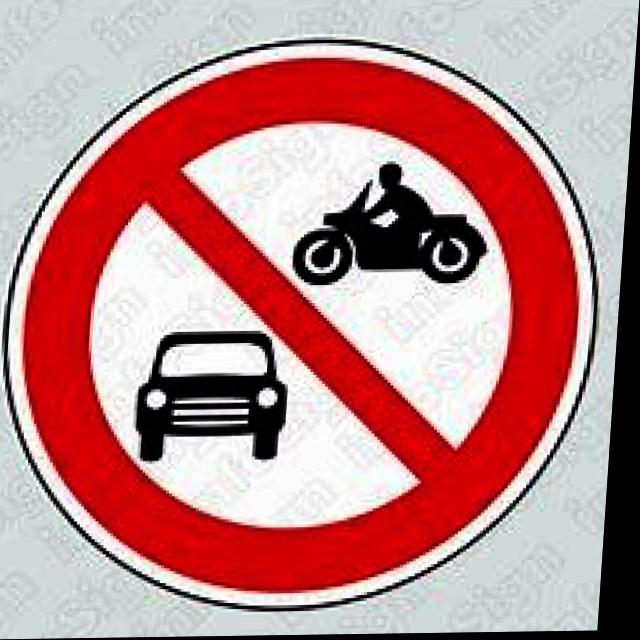ALL_MOTOR_VEHICLE_PROHIBITED: (0, 36, 627, 630)
